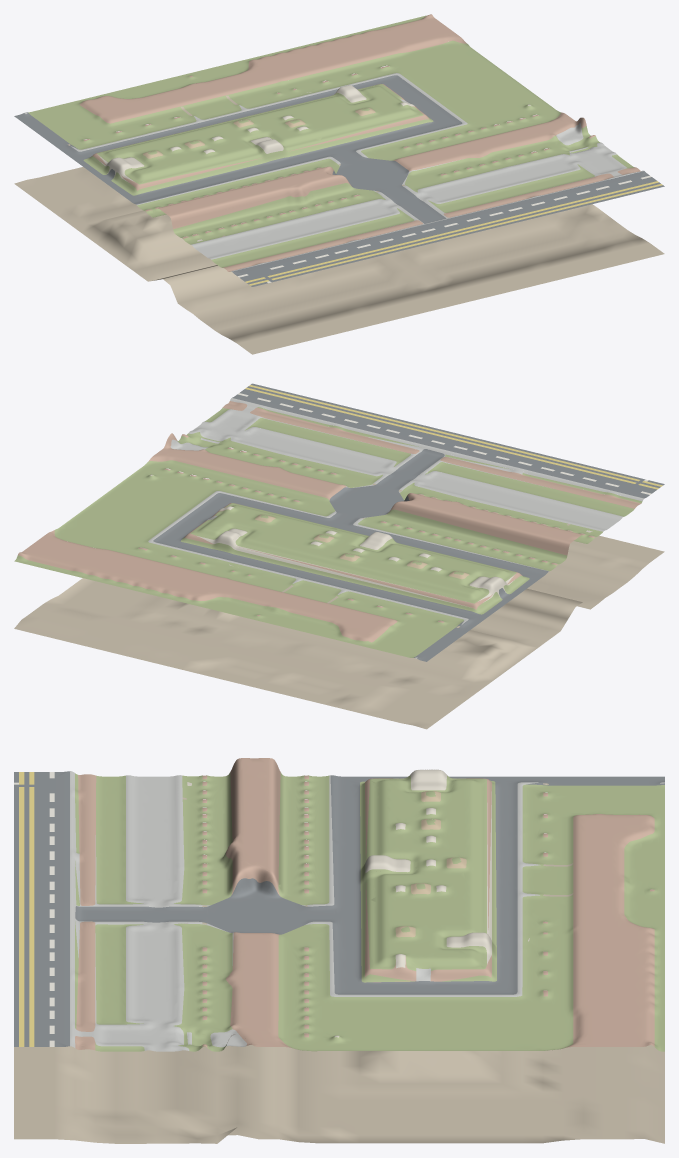
3 views of the same model, one above another, from view 1: azimuth 30°, elevation 25°; view 2: azimuth 150°, elevation 25°; view 3: azimuth 270°, elevation 25° (orthographic). The views are drawn at different scales.
Parts seen in each view (by area): view 1: s_-5_-4__grass, s_-5_-4__soil, s_-5_-4__brick_paving, s_-5_-4__asphalt, s_-5_-4__stone_paving, s_-5_-4__yellow_marking, s_-5_-4__paving, s_-5_-4__white_marking, s_-5_-4__timber_deck; view 2: s_-5_-4__grass, s_-5_-4__soil, s_-5_-4__brick_paving, s_-5_-4__asphalt, s_-5_-4__stone_paving, s_-5_-4__paving, s_-5_-4__yellow_marking, s_-5_-4__white_marking, s_-5_-4__timber_deck; view 3: s_-5_-4__grass, s_-5_-4__soil, s_-5_-4__brick_paving, s_-5_-4__asphalt, s_-5_-4__stone_paving, s_-5_-4__yellow_marking, s_-5_-4__paving, s_-5_-4__white_marking, s_-5_-4__timber_deck.
Part boxes in pixels (x1,y1,x2,y2): s_-5_-4__grass: [28, 15, 634, 267]; s_-5_-4__soil: [14, 95, 664, 354]; s_-5_-4__brick_paving: [79, 14, 640, 271]; s_-5_-4__asphalt: [14, 75, 664, 286]; s_-5_-4__stone_paving: [24, 73, 643, 271]; s_-5_-4__yellow_marking: [245, 181, 662, 285]; s_-5_-4__paving: [98, 85, 530, 241]; s_-5_-4__white_marking: [238, 175, 651, 283]; s_-5_-4__timber_deck: [143, 107, 375, 158]; s_-5_-4__grass: [14, 407, 642, 657]; s_-5_-4__soil: [14, 454, 664, 729]; s_-5_-4__brick_paving: [18, 401, 641, 642]; s_-5_-4__asphalt: [153, 383, 664, 661]; s_-5_-4__stone_paving: [148, 398, 643, 658]; s_-5_-4__paving: [150, 474, 592, 607]; s_-5_-4__yellow_marking: [245, 385, 662, 489]; s_-5_-4__white_marking: [238, 393, 651, 494]; s_-5_-4__timber_deck: [255, 514, 469, 579]; s_-5_-4__grass: [75, 772, 664, 1051]; s_-5_-4__soil: [14, 783, 664, 1143]; s_-5_-4__brick_paving: [75, 758, 654, 1050]; s_-5_-4__asphalt: [14, 771, 664, 1046]; s_-5_-4__stone_paving: [70, 771, 664, 1051]; s_-5_-4__yellow_marking: [19, 772, 34, 1046]; s_-5_-4__paving: [187, 769, 529, 1037]; s_-5_-4__white_marking: [14, 772, 54, 1046]; s_-5_-4__timber_deck: [395, 791, 466, 937].
Bounding box in the file's own units: 128 × 24.93 × 128.
